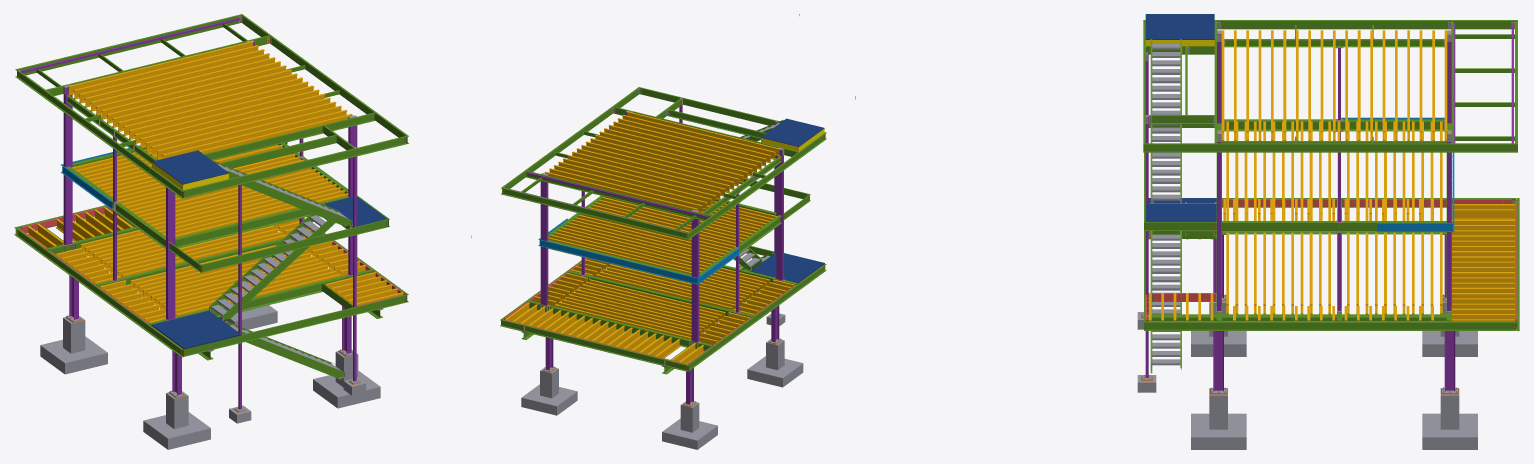
The picture shows the model from 3 angles, left to right: view 1: azimuth 30°, elevation 25°; view 2: azimuth 150°, elevation 25°; view 3: azimuth 270°, elevation 25°; orthographic projection. The views are drawn at different scales.
Parts seen in each view (by area): view 1: Mesh 30648, Mesh 27698, Mesh 30949, Mesh 30660, Mesh 30998, Mesh 30837, Mesh 30714, Mesh 30624, Mesh 20378, Mesh 20392, Mesh 30681, Mesh 30581 (+70 smaller); view 2: Mesh 31015, Mesh 30681, Mesh 21778, Mesh 30660, Mesh 27698, Mesh 30998, Mesh 31064, Mesh 30624, Mesh 20392, Mesh 20378, Mesh 20364, Mesh 30608 (+67 smaller); view 3: Mesh 30624, Mesh 30976, Mesh 30660, Mesh 30791, Mesh 30813, Mesh 13671, Mesh 20364, Mesh 20333, Mesh 31081, Mesh 30555, Mesh 14472, Mesh 20378 (+12 smaller).
Boxes of the visible parts, bbox=[...] form: Mesh 30648: bbox=[183, 136, 406, 198]; Mesh 27698: bbox=[151, 310, 241, 349]; Mesh 30949: bbox=[183, 294, 406, 356]; Mesh 30660: bbox=[15, 69, 183, 198]; Mesh 30998: bbox=[16, 228, 183, 357]; Mesh 30837: bbox=[202, 219, 388, 272]; Mesh 30714: bbox=[175, 196, 349, 247]; Mesh 30624: bbox=[240, 14, 408, 143]; Mesh 20378: bbox=[40, 336, 107, 374]; Mesh 20392: bbox=[143, 412, 210, 449]; Mesh 30681: bbox=[17, 14, 241, 75]; Mesh 30581: bbox=[151, 112, 375, 167]; Mesh 31015: bbox=[500, 319, 689, 371]; Mesh 30681: bbox=[502, 187, 687, 239]; Mesh 21778: bbox=[538, 239, 697, 284]; Mesh 30660: bbox=[687, 132, 826, 239]; Mesh 27698: bbox=[750, 253, 824, 283]; Mesh 30998: bbox=[688, 264, 826, 370]; Mesh 31064: bbox=[527, 300, 712, 351]; Mesh 30624: bbox=[501, 87, 639, 194]; Mesh 20392: bbox=[747, 356, 803, 387]; Mesh 20378: bbox=[662, 418, 717, 449]; Mesh 20364: bbox=[521, 384, 577, 415]; Mesh 30608: bbox=[526, 170, 710, 220]; Mesh 30624: bbox=[1143, 143, 1517, 152]; Mesh 30976: bbox=[1144, 321, 1516, 330]; Mesh 30660: bbox=[1143, 20, 1517, 29]; Mesh 30791: bbox=[1222, 221, 1446, 232]; Mesh 30813: bbox=[1224, 119, 1444, 131]; Mesh 13671: bbox=[1145, 14, 1214, 39]; Mesh 20364: bbox=[1422, 413, 1477, 449]; Mesh 20333: bbox=[1191, 413, 1246, 449]; Mesh 31081: bbox=[1147, 314, 1446, 321]; Mesh 30555: bbox=[1224, 39, 1444, 47]; Mesh 14472: bbox=[1145, 204, 1216, 221]; Mesh 20378: bbox=[1422, 331, 1477, 356].
Bounding box in the file's own units: 9.65 × 11.62 × 21.8.
